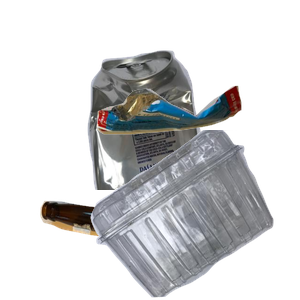glass: (37, 198, 236, 300)
metal: (85, 48, 300, 228)
plastic: (88, 130, 300, 300)
trash: (94, 83, 300, 210)
